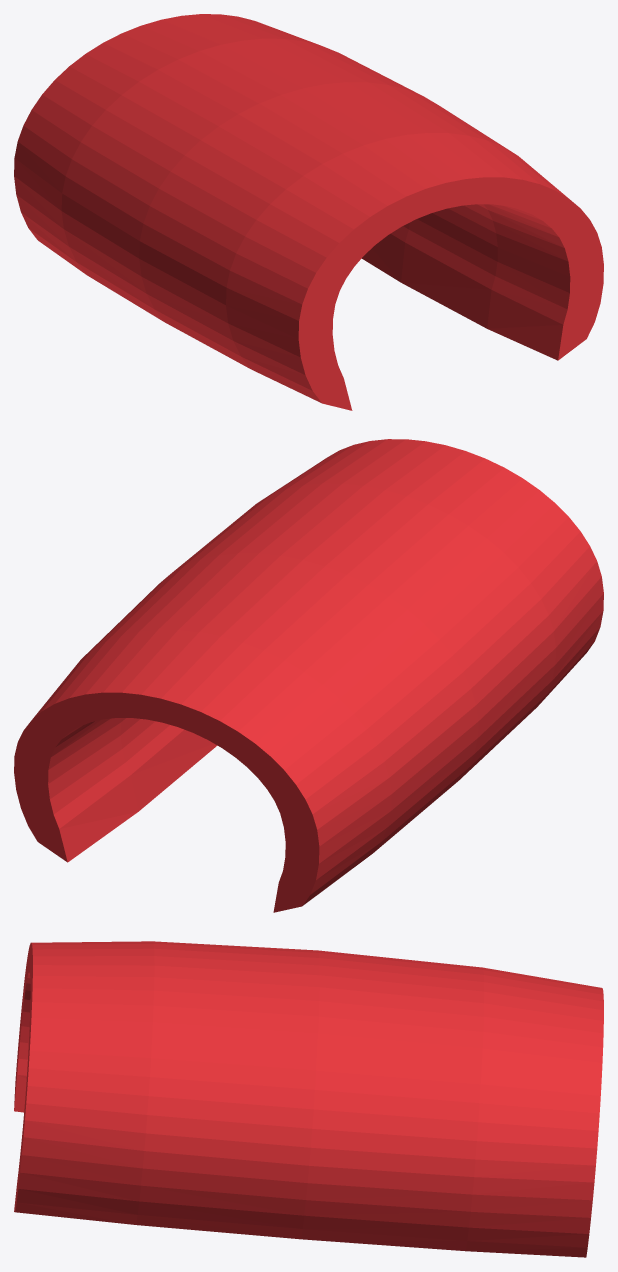
File: tunnel.dae
3 views of the same model, one above another, from view 1: azimuth 30°, elevation 25°; view 2: azimuth 150°, elevation 25°; view 3: azimuth 270°, elevation 25° (orthographic).
Visible parts, largest first — view 1: Torus; view 2: Torus; view 3: Torus.
Part boxes in pixels (bbox=[...]): Torus: bbox=[14, 14, 603, 410]; Torus: bbox=[14, 439, 603, 912]; Torus: bbox=[14, 941, 603, 1257].
Bounding box in the file's own units: 0.0292 × 0.0438 × 0.0198.
